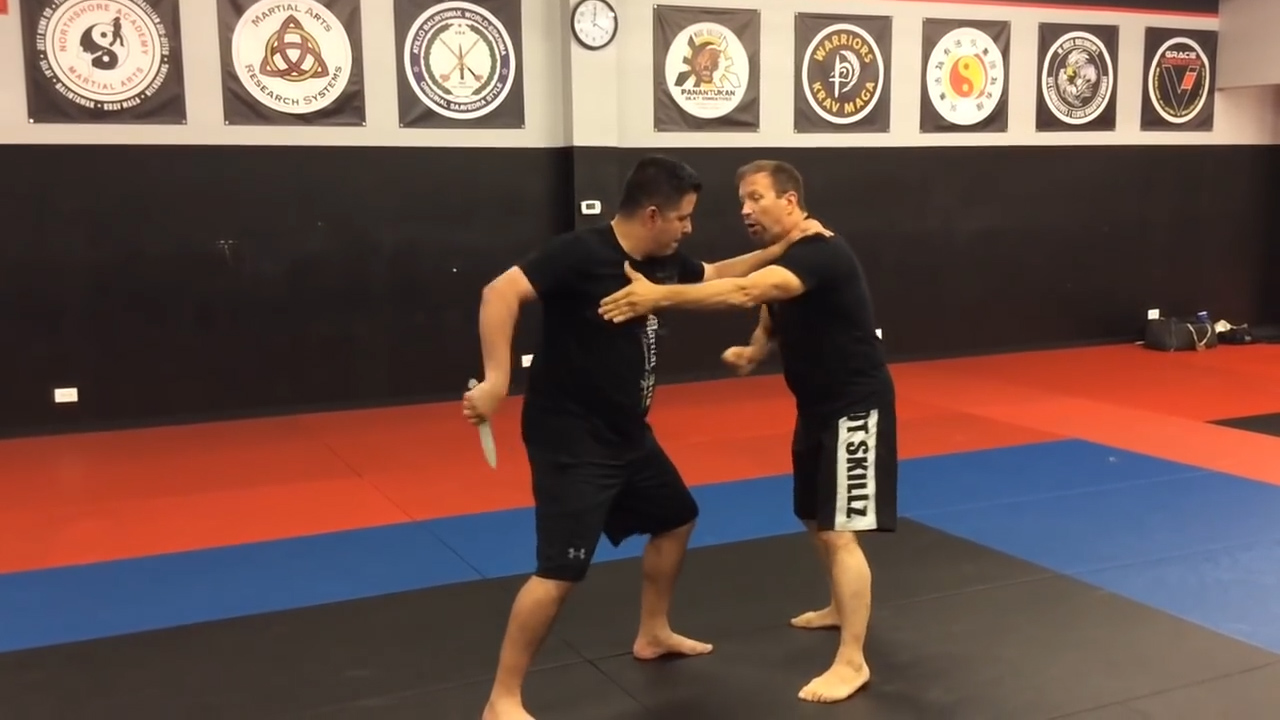knife: (460, 371, 511, 477)
